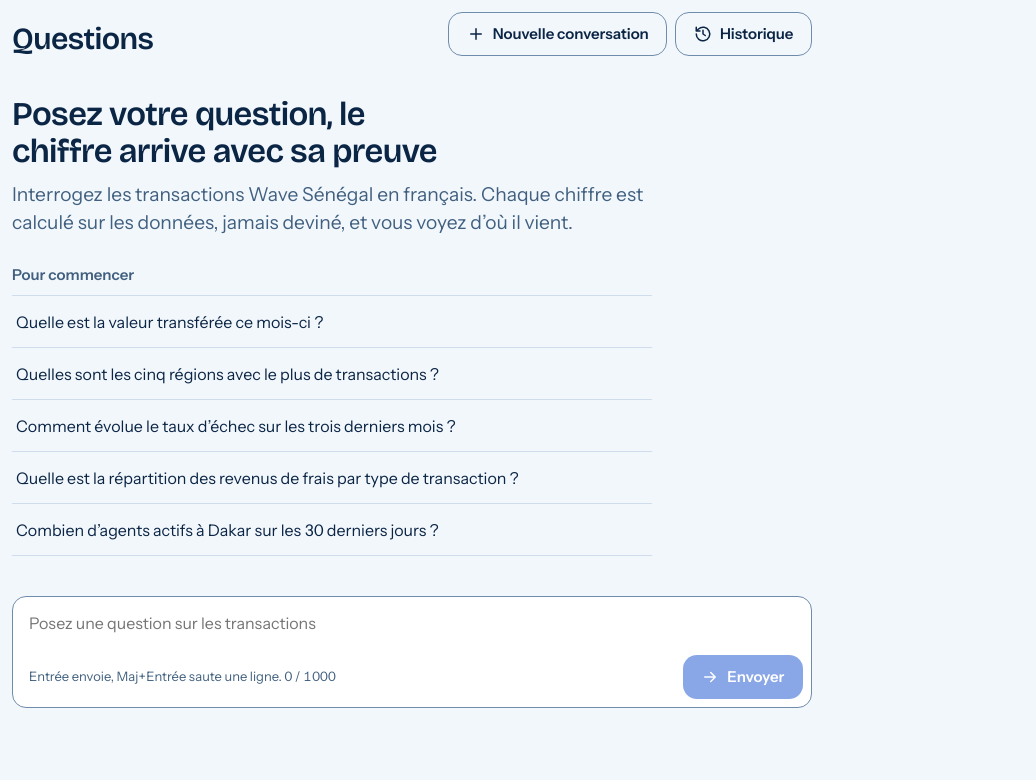
Test: Page Questions › un refus dit pourquoi et propose des questions possibles
The image size is (1036, 780).
Type "Combien font les concurrents ?" into the text box named "Votre question". click: [412, 623]
box: [13,597,811,649]
Then press Enter
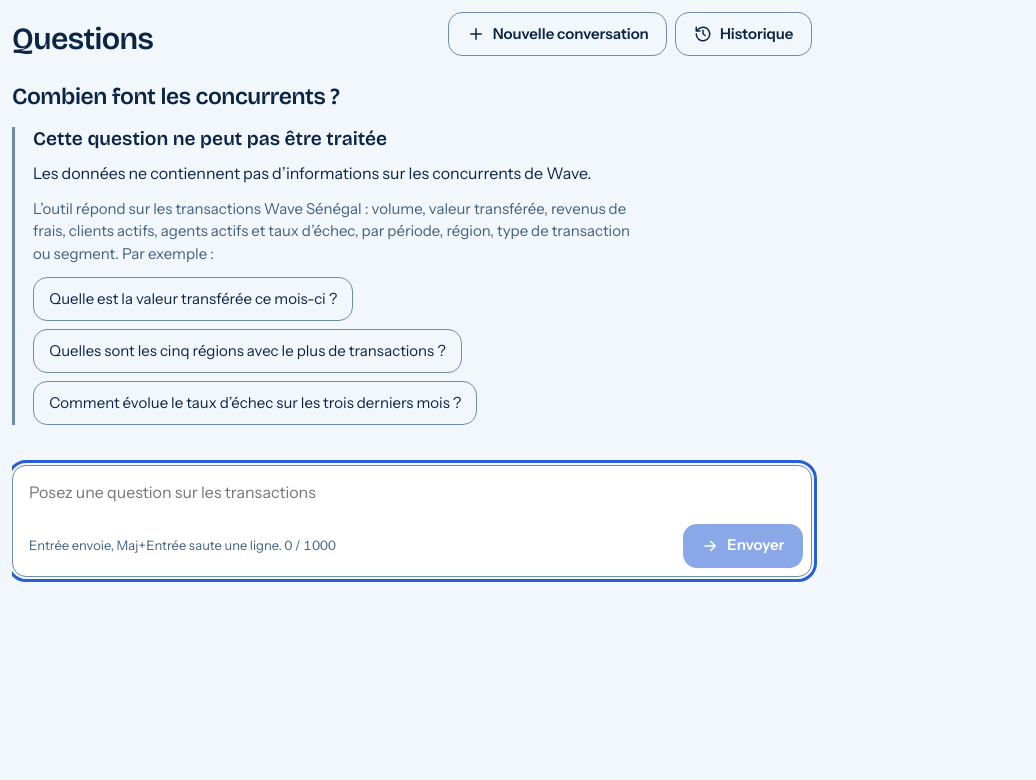
Expected: the button "Comment évolue le taux d’échec sur les trois derniers mois ?" is enabled, [33,381,477,425]
Now the text "Cette question ne peut pas être traitée" is shown, box [33,127,387,150]
Now the text "pas d’informations sur les concurrents" is shown, box [33,163,592,183]
